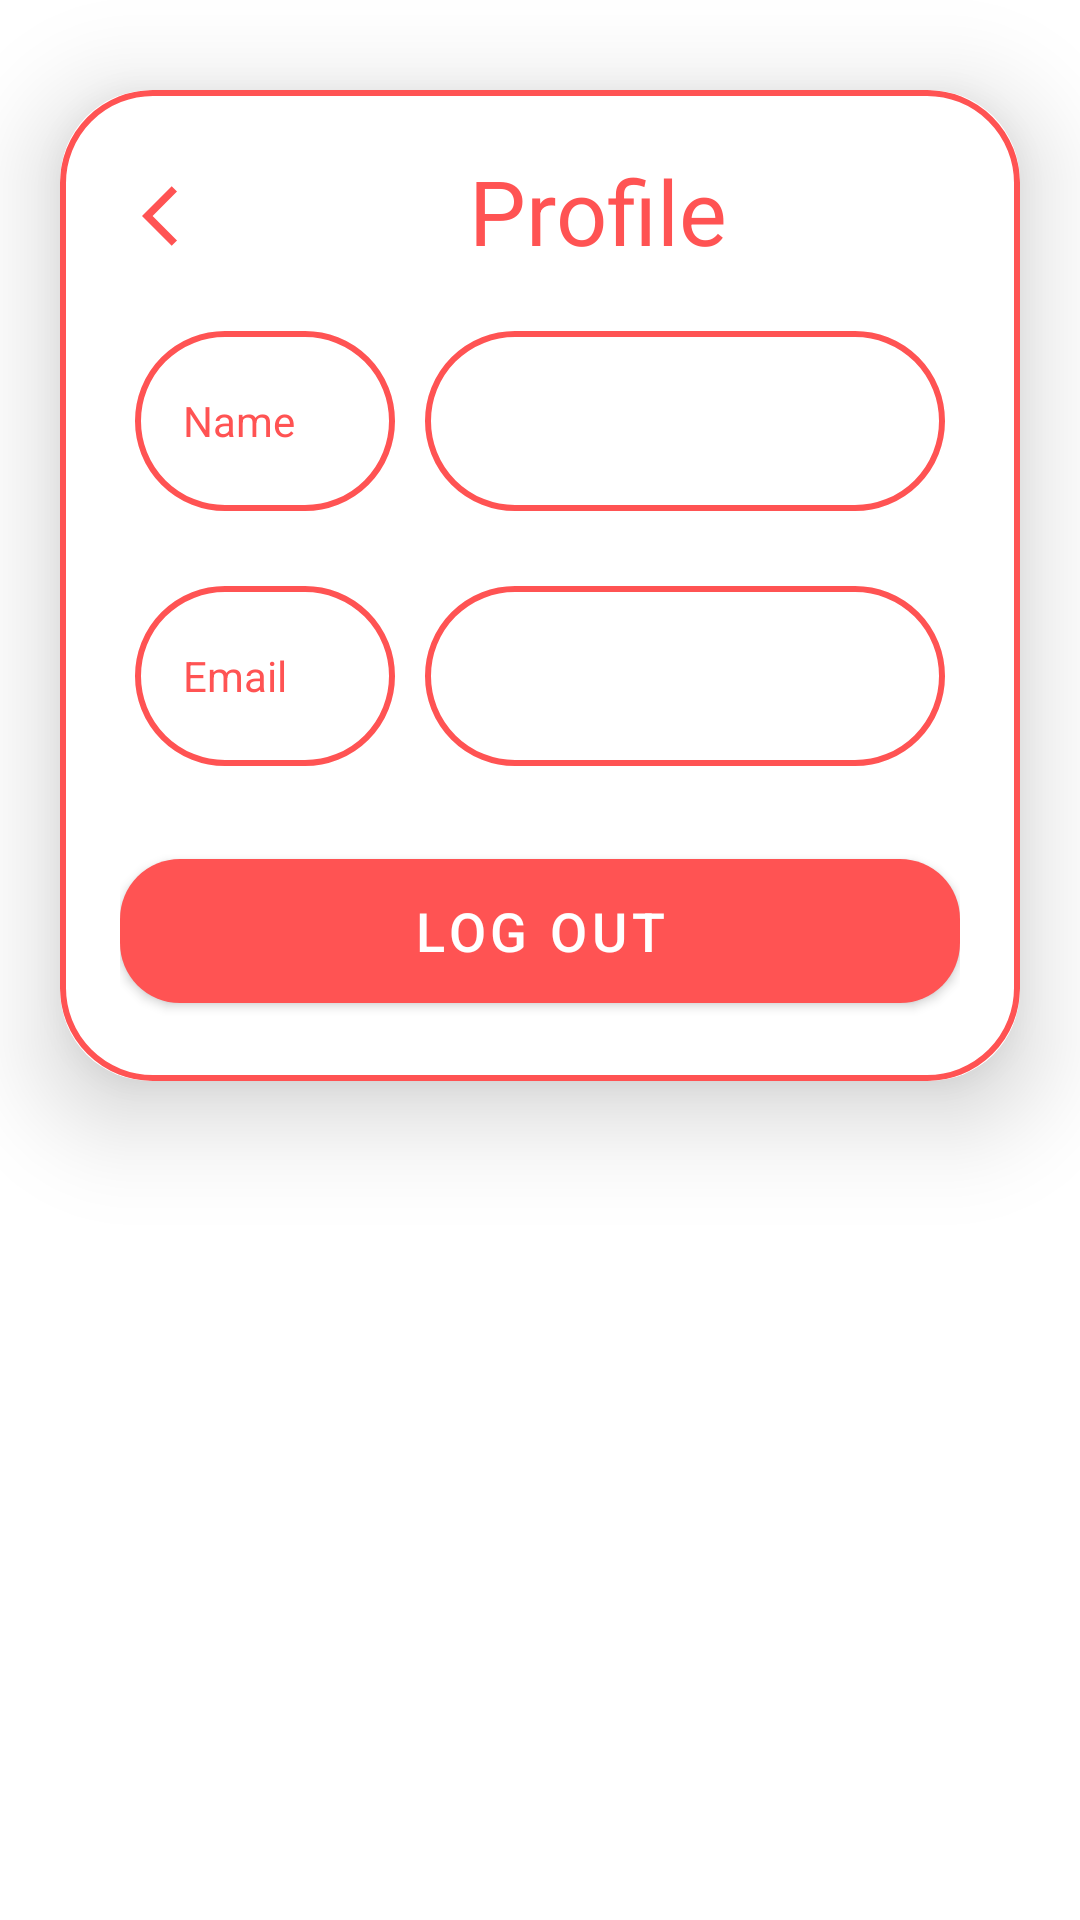

Named icons in this screenshot (1080w x 1920h) and their centers, point (x, y):
arrow back: point (159, 216)
